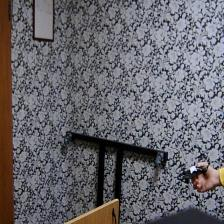drone: (172, 154, 211, 186)
